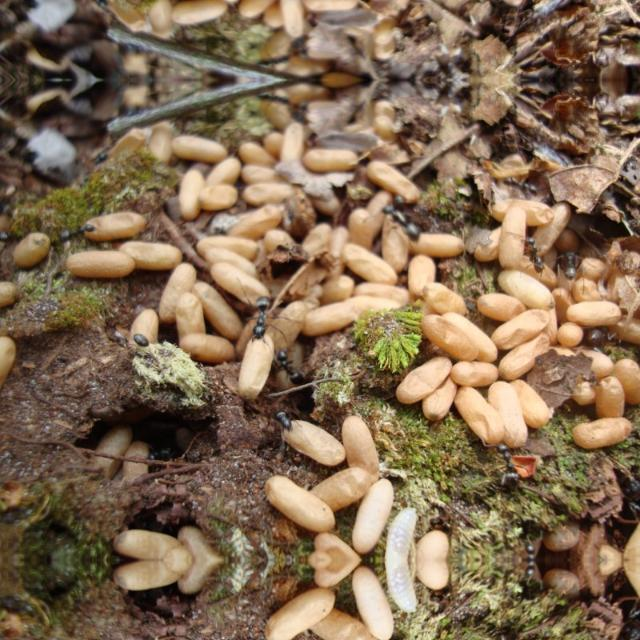Formica: (474, 430, 530, 494), (366, 190, 430, 242), (243, 286, 280, 346), (516, 231, 556, 281), (60, 210, 96, 250), (494, 168, 538, 200), (274, 344, 308, 384), (258, 403, 298, 437), (556, 238, 586, 282), (472, 626, 530, 640)
